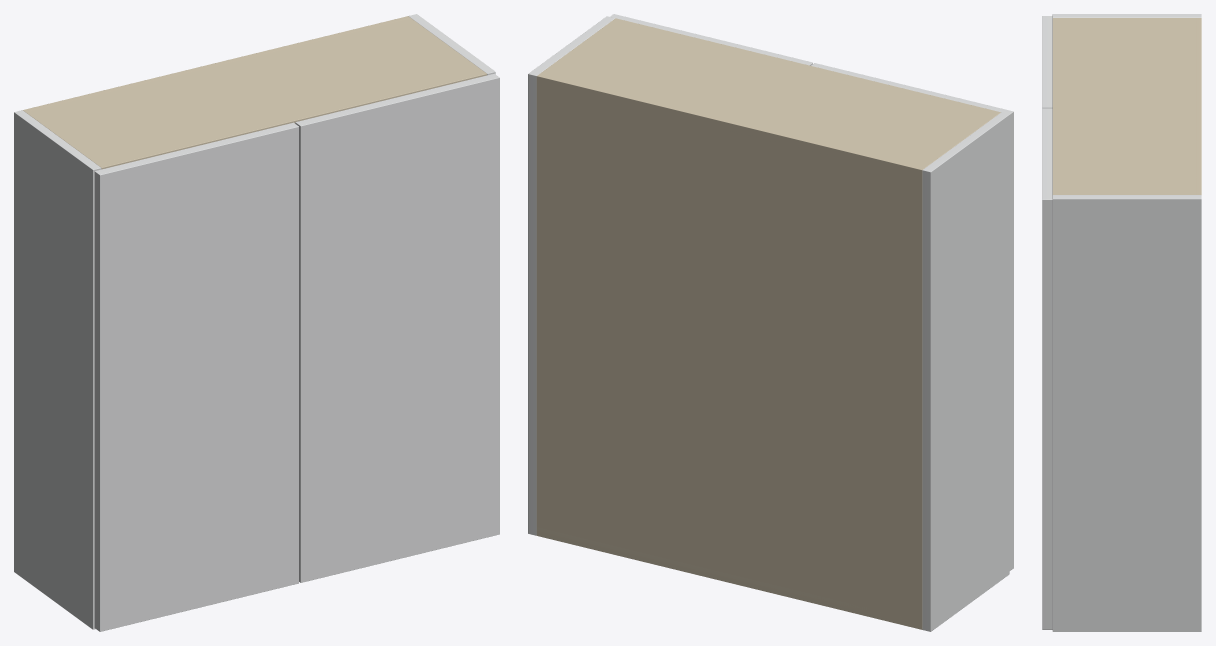
The model's file is oppein-ply-pgw-w3336.glb.
3 views of the same model, side by side, from view 1: azimuth 30°, elevation 25°; view 2: azimuth 150°, elevation 25°; view 3: azimuth 270°, elevation 25° (orthographic). The views are drawn at different scales.
Visible parts, largest first — view 1: Door, Door.001, Cabinet side, Cabinet top, Cabinet back, Cabinet side.001; view 2: Cabinet back, Cabinet side, Cabinet top, Cabinet side.001, Door, Cabinet bottom, Door.001; view 3: Cabinet side.001, Cabinet top, Door.001, Cabinet back, Door, Cabinet side.
Boxes of the visible parts, x1,y1,x2,y2 form: Door: (94,122,298,631); Door.001: (295,73,499,582); Cabinet side: (14,110,101,629); Cabinet top: (24,16,486,169); Cabinet back: (23,16,410,111); Cabinet side.001: (408,14,495,75); Cabinet back: (536,74,924,629); Cabinet side: (922,112,1009,631); Cabinet top: (536,18,1000,172); Cabinet side.001: (528,16,615,535); Door: (811,63,1013,570); Cabinet bottom: (536,527,920,626); Door.001: (610,14,812,65); Cabinet side.001: (1052,195,1201,631); Cabinet top: (1052,18,1201,194); Door.001: (1042,108,1052,629); Cabinet back: (1195,18,1201,194); Door: (1042,16,1052,108); Cabinet side: (1052,14,1201,17).
Size of the model in its own units: 0.8382 by 0.9144 by 0.3048.
